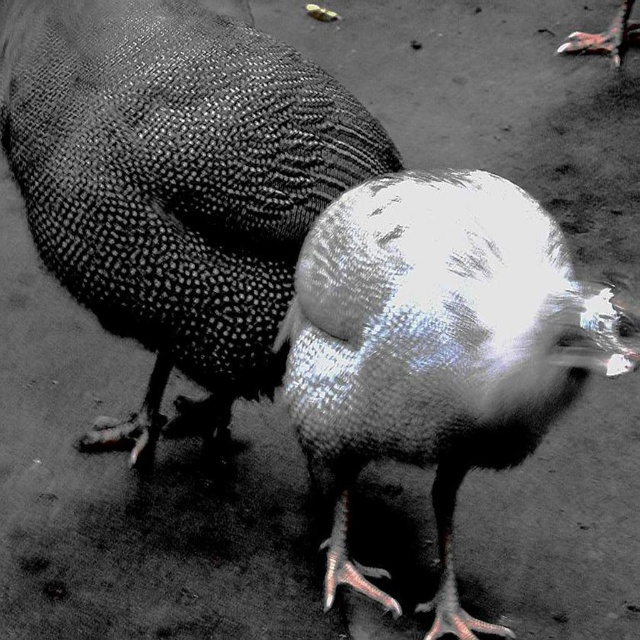Chicken: (0, 0, 420, 484)
